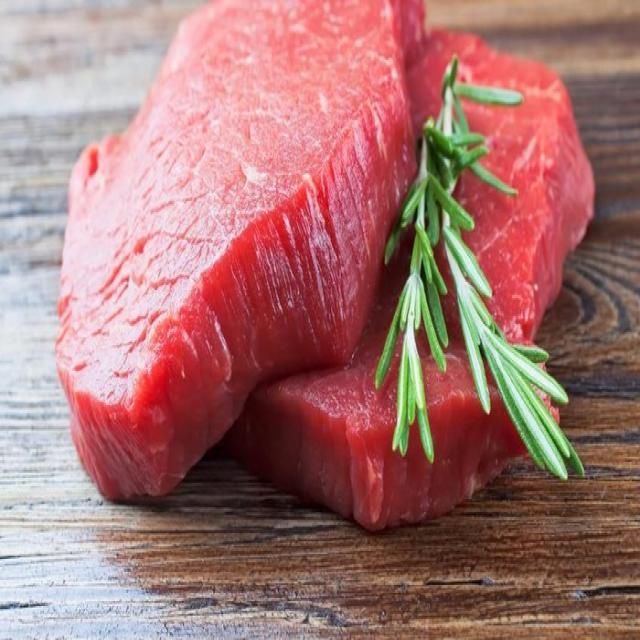beef: (47, 1, 430, 537), (187, 302, 582, 545), (359, 18, 622, 332)
